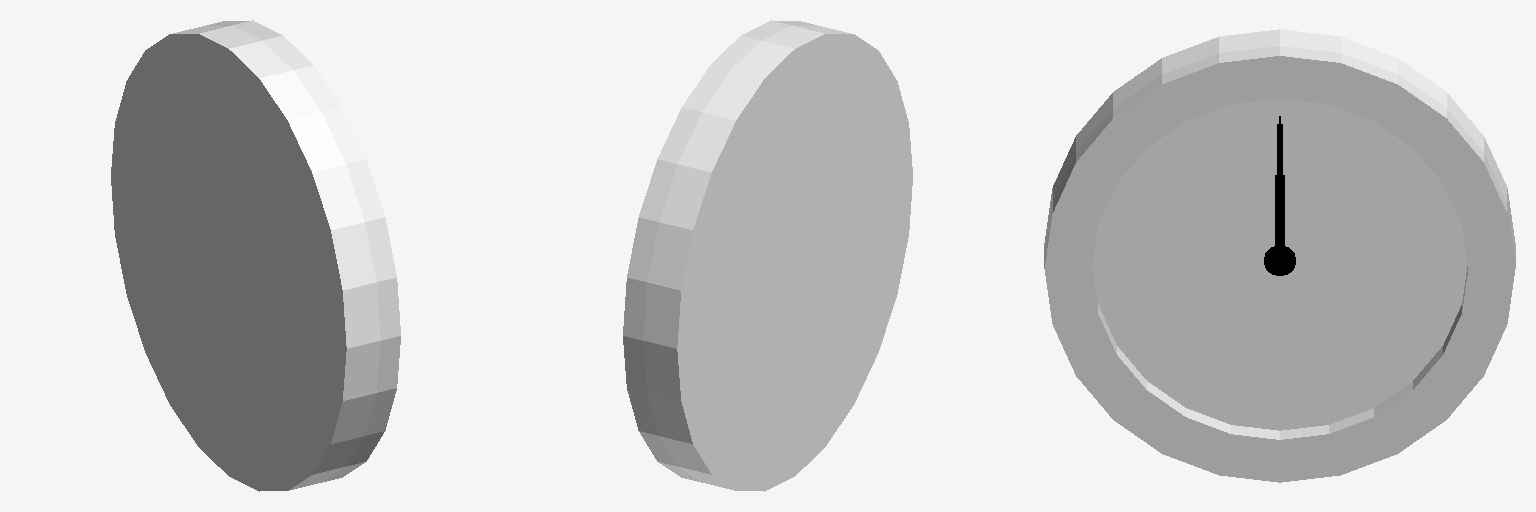
The robot description file, URDF, robot "ideainternational-300-analog-clock":
<?xml version="1.0"?>
<robot name="ideainternational-300-analog-clock"
       xmlns:xi="http://www.w3.org/2001/XInclude"
       >
  <gazebo>
    <static>false</static>
  </gazebo>
  <link name="IDEAINTERNATIONAL-300-ANALOG-CLOCK-BODYSET2_link">
    <visual>
      <origin xyz="0 0 0" rpy="0 -0 0"/>
      <geometry>
        <mesh filename="model://ideainternational-300-analog-clock/meshes/IDEAINTERNATIONAL-300-ANALOG-CLOCK-BODYSET2_link_mesh.dae" scale="1 1 1" />
      </geometry>
    </visual>
    <collision>
      <origin xyz="0 0 0" rpy="0 -0 0"/>
      <geometry>
        <mesh filename="model://ideainternational-300-analog-clock/meshes/IDEAINTERNATIONAL-300-ANALOG-CLOCK-BODYSET2_link_mesh.dae" scale="1 1 1" />
      </geometry>
    </collision>
    <inertial>
      <mass value="0.001" />
      <origin xyz="0 0 0" rpy="0 -0 0"/>
      <inertia ixx="1e-03" ixy="0" ixz="0" iyy="1e-03" iyz="0" izz="1e-03"/>
    </inertial>
  </link>
  <gazebo reference="IDEAINTERNATIONAL-300-ANALOG-CLOCK-BODYSET2_link">
    <mu1>0.9</mu1>
    <mu2>0.9</mu2>
  </gazebo>
  <link name="IDEAINTERNATIONAL-300-ANALOG-CLOCK-BODYSET3_link">
    <visual>
      <origin xyz="0.006 0 0.15" rpy="0 -0 0"/>
      <geometry>
        <mesh filename="model://ideainternational-300-analog-clock/meshes/IDEAINTERNATIONAL-300-ANALOG-CLOCK-BODYSET3_link_mesh.dae" scale="1 1 1" />
      </geometry>
    </visual>
    <collision>
      <origin xyz="0.006 0 0.15" rpy="0 -0 0"/>
      <geometry>
        <mesh filename="model://ideainternational-300-analog-clock/meshes/IDEAINTERNATIONAL-300-ANALOG-CLOCK-BODYSET3_link_mesh.dae" scale="1 1 1" />
      </geometry>
    </collision>
    <inertial>
      <mass value="0.001" />
      <origin xyz="0 0 0" rpy="0 -0 0"/>
      <inertia ixx="1e-03" ixy="0" ixz="0" iyy="1e-03" iyz="0" izz="1e-03"/>
    </inertial>
  </link>
  <gazebo reference="IDEAINTERNATIONAL-300-ANALOG-CLOCK-BODYSET3_link">
    <mu1>0.9</mu1>
    <mu2>0.9</mu2>
  </gazebo>
  <link name="IDEAINTERNATIONAL-300-ANALOG-CLOCK-BODYSET4_link">
    <visual>
      <origin xyz="0.007 0 0.15" rpy="0 -0 0"/>
      <geometry>
        <mesh filename="model://ideainternational-300-analog-clock/meshes/IDEAINTERNATIONAL-300-ANALOG-CLOCK-BODYSET4_link_mesh.dae" scale="1 1 1" />
      </geometry>
    </visual>
    <collision>
      <origin xyz="0.007 0 0.15" rpy="0 -0 0"/>
      <geometry>
        <mesh filename="model://ideainternational-300-analog-clock/meshes/IDEAINTERNATIONAL-300-ANALOG-CLOCK-BODYSET4_link_mesh.dae" scale="1 1 1" />
      </geometry>
    </collision>
    <inertial>
      <mass value="0.001" />
      <origin xyz="-0.006 0 -0.15" rpy="0 -0 0"/>
      <inertia ixx="1e-03" ixy="0" ixz="0" iyy="1e-03" iyz="0" izz="1e-03"/>
    </inertial>
  </link>
  <gazebo reference="IDEAINTERNATIONAL-300-ANALOG-CLOCK-BODYSET4_link">
    <mu1>0.9</mu1>
    <mu2>0.9</mu2>
  </gazebo>
  <link name="IDEAINTERNATIONAL-300-ANALOG-CLOCK-BODYSET5_link">
    <visual>
      <origin xyz="0.008 0 0.15" rpy="0 -0 0"/>
      <geometry>
        <mesh filename="model://ideainternational-300-analog-clock/meshes/IDEAINTERNATIONAL-300-ANALOG-CLOCK-BODYSET5_link_mesh.dae" scale="1 1 1" />
      </geometry>
    </visual>
    <collision>
      <origin xyz="0.008 0 0.15" rpy="0 -0 0"/>
      <geometry>
        <mesh filename="model://ideainternational-300-analog-clock/meshes/IDEAINTERNATIONAL-300-ANALOG-CLOCK-BODYSET5_link_mesh.dae" scale="1 1 1" />
      </geometry>
    </collision>
    <inertial>
      <mass value="0.001" />
      <origin xyz="-0.013 0 -0.3" rpy="0 -0 0"/>
      <inertia ixx="1e-03" ixy="0" ixz="0" iyy="1e-03" iyz="0" izz="1e-03"/>
    </inertial>
  </link>
  <gazebo reference="IDEAINTERNATIONAL-300-ANALOG-CLOCK-BODYSET5_link">
    <mu1>0.9</mu1>
    <mu2>0.9</mu2>
  </gazebo>
  <joint name="HOUR-JOINT" type="revolute">
    <parent link="IDEAINTERNATIONAL-300-ANALOG-CLOCK-BODYSET2_link"/>
    <child  link="IDEAINTERNATIONAL-300-ANALOG-CLOCK-BODYSET3_link"/>
    <origin xyz="0.006 0 0.15" rpy="0 -0 0 "/>
    <axis   xyz="-1 0 0"/>
    <limit lower="-6.28319" upper="6.28319" effort="100" velocity="0.5" />
    <dynamics damping="0.2" friction="0" />
  </joint>
  <transmission type="pr2_mechanism_model/SimpleTransmission" name="HOUR-JOINT_trans" >
    <actuator name="HOUR-JOINT_motor" />
    <joint name="HOUR-JOINT" />
    <mechanicalReduction>1</mechanicalReduction>
  </transmission>
  <gazebo reference="HOUR-JOINT">
    <cfmDamping>0.4</cfmDamping>
  </gazebo>
  <joint name="MINUTE-JOINT" type="revolute">
    <parent link="IDEAINTERNATIONAL-300-ANALOG-CLOCK-BODYSET3_link"/>
    <child  link="IDEAINTERNATIONAL-300-ANALOG-CLOCK-BODYSET4_link"/>
    <origin xyz="0.007 0 0.15" rpy="0 -0 0 "/>
    <axis   xyz="-1 0 0"/>
    <limit lower="-6.28319" upper="6.28319" effort="100" velocity="0.5" />
    <dynamics damping="0.2" friction="0" />
  </joint>
  <transmission type="pr2_mechanism_model/SimpleTransmission" name="MINUTE-JOINT_trans" >
    <actuator name="MINUTE-JOINT_motor" />
    <joint name="MINUTE-JOINT" />
    <mechanicalReduction>1</mechanicalReduction>
  </transmission>
  <gazebo reference="MINUTE-JOINT">
    <cfmDamping>0.4</cfmDamping>
  </gazebo>
  <joint name="SECOND-JOINT" type="revolute">
    <parent link="IDEAINTERNATIONAL-300-ANALOG-CLOCK-BODYSET4_link"/>
    <child  link="IDEAINTERNATIONAL-300-ANALOG-CLOCK-BODYSET5_link"/>
    <origin xyz="0.008 0 0.15" rpy="0 -0 0 "/>
    <axis   xyz="-1 0 0"/>
    <limit lower="-6.28319" upper="6.28319" effort="100" velocity="0.5" />
    <dynamics damping="0.2" friction="0" />
  </joint>
  <transmission type="pr2_mechanism_model/SimpleTransmission" name="SECOND-JOINT_trans" >
    <actuator name="SECOND-JOINT_motor" />
    <joint name="SECOND-JOINT" />
    <mechanicalReduction>1</mechanicalReduction>
  </transmission>
  <gazebo reference="SECOND-JOINT">
    <cfmDamping>0.4</cfmDamping>
  </gazebo>
</robot>

--- Facts derived from the render (not from the file) ---
The picture shows the robot from 3 angles, left to right: view 1: azimuth 30°, elevation 25°; view 2: azimuth 150°, elevation 25°; view 3: azimuth 270°, elevation 25°; orthographic projection.
Robot: ideainternational-300-analog-clock — 4 links, 3 joints (3 revolute); root link IDEAINTERNATIONAL-300-ANALOG-CLOCK-BODYSET2_link; default pose: every joint at zero.
Visible links, largest first — view 1: IDEAINTERNATIONAL-300-ANALOG-CLOCK-BODYSET2_link; view 2: IDEAINTERNATIONAL-300-ANALOG-CLOCK-BODYSET2_link; view 3: IDEAINTERNATIONAL-300-ANALOG-CLOCK-BODYSET2_link, IDEAINTERNATIONAL-300-ANALOG-CLOCK-BODYSET5_link.
Boxes of the visible links, box(x1,y1,x2,y2) form: IDEAINTERNATIONAL-300-ANALOG-CLOCK-BODYSET2_link: box(111, 20, 400, 491); IDEAINTERNATIONAL-300-ANALOG-CLOCK-BODYSET2_link: box(623, 20, 912, 491); IDEAINTERNATIONAL-300-ANALOG-CLOCK-BODYSET2_link: box(1044, 29, 1515, 482); IDEAINTERNATIONAL-300-ANALOG-CLOCK-BODYSET5_link: box(1264, 116, 1295, 275).
Size in the robot's own frame: 0.04 by 0.3 by 0.3 metres.
4 mesh visuals loaded from 4 distinct referenced files (4 Collada DAE).